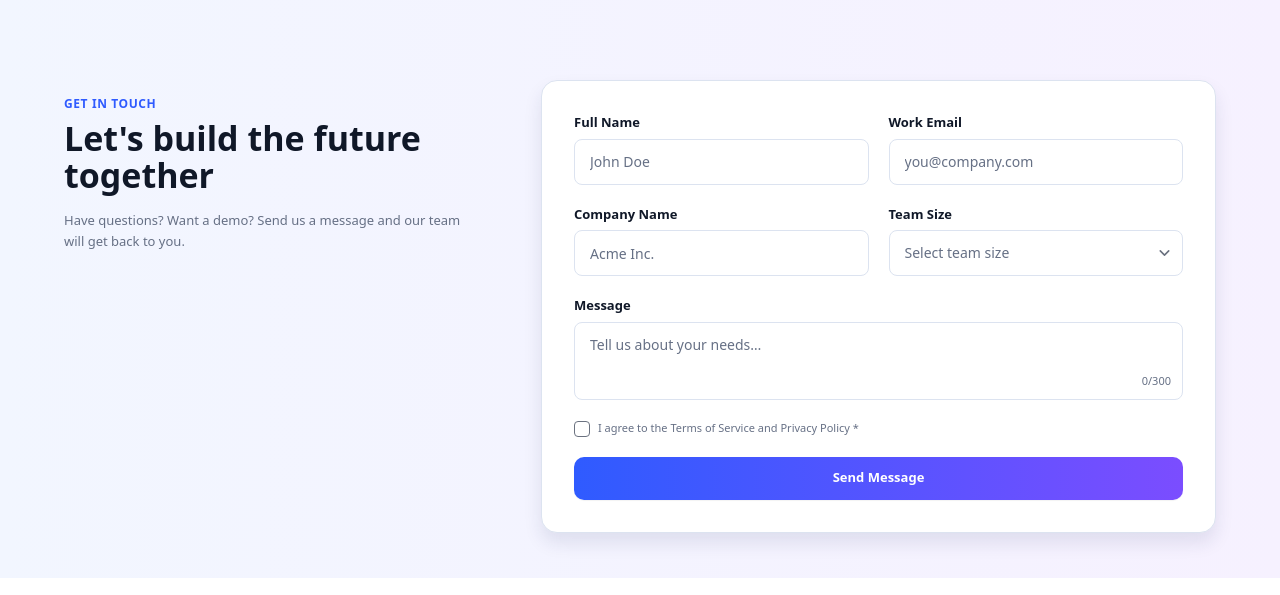
Scenario: ContactForm › shows live character count
This screenshot has width=1280, height=595.
Type "hello" into the text box labelled "Message" at (878,360), box [574,322,1183,400]
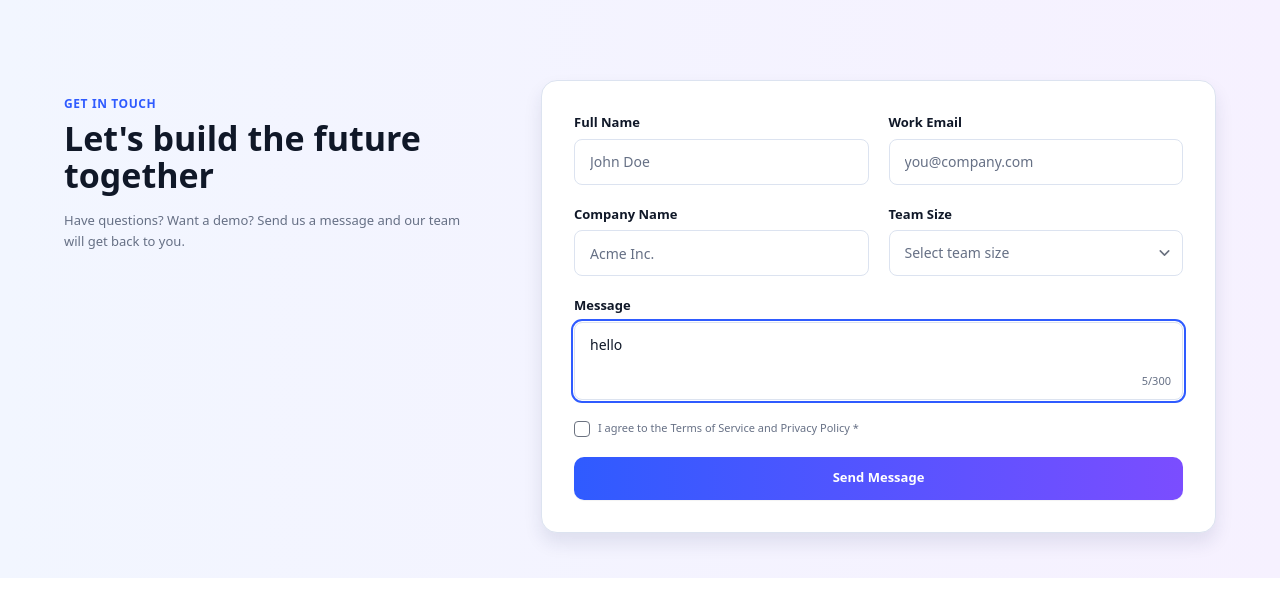
Expected: the text "5/300" is shown, [1142,373,1171,390]
